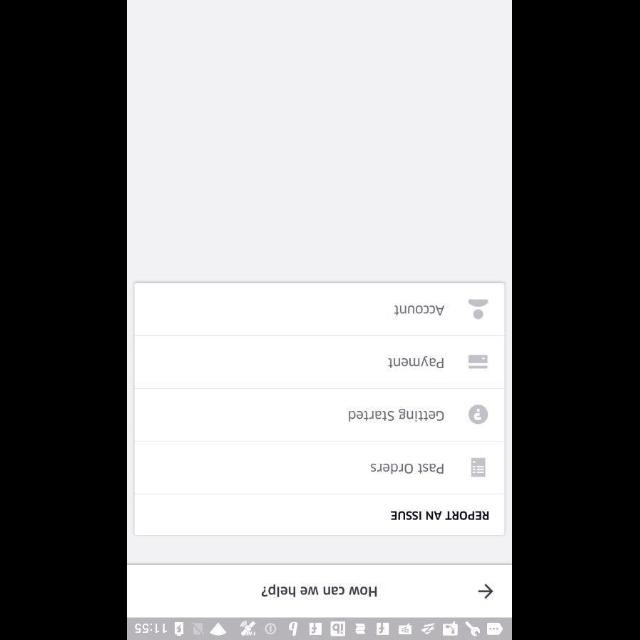icon: (468, 298, 489, 320), (469, 404, 488, 424), (468, 354, 488, 370), (478, 584, 494, 598)
image: (471, 457, 485, 478)
text: (262, 584, 378, 596), (348, 408, 444, 422), (390, 510, 490, 520), (370, 462, 444, 474), (388, 356, 444, 368), (394, 305, 446, 317)
toolbar: (128, 564, 512, 616)
uppertaskbar: (128, 617, 512, 639)
